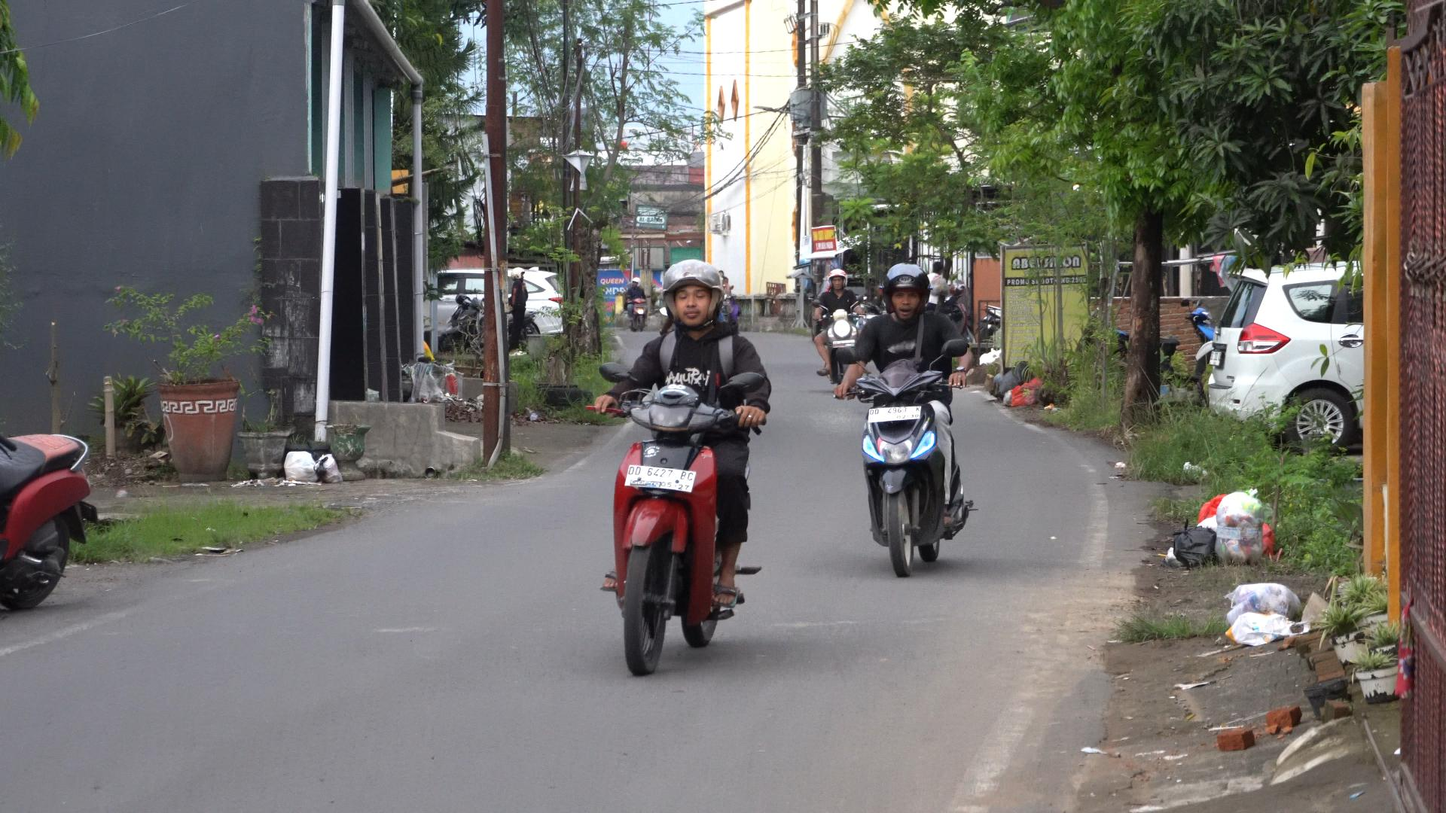number-plate: (618, 470, 697, 492)
